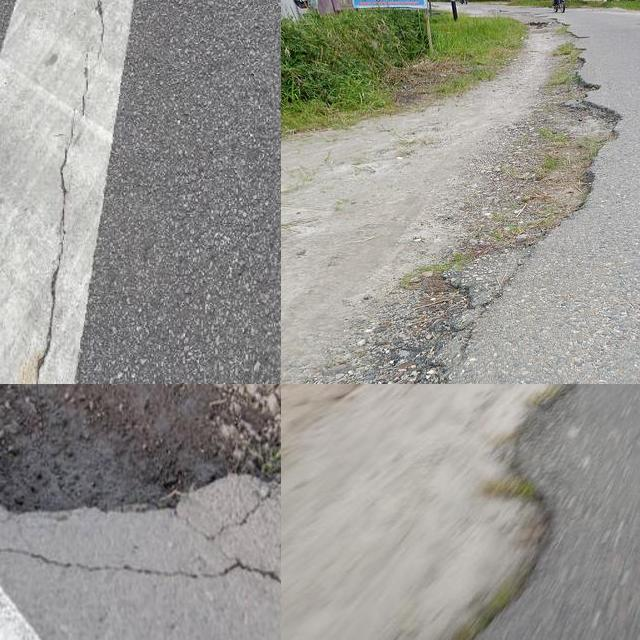Memanjang: (10, 0, 118, 384)
Pinggir: (411, 25, 633, 384), (378, 384, 612, 640), (0, 384, 278, 526)
